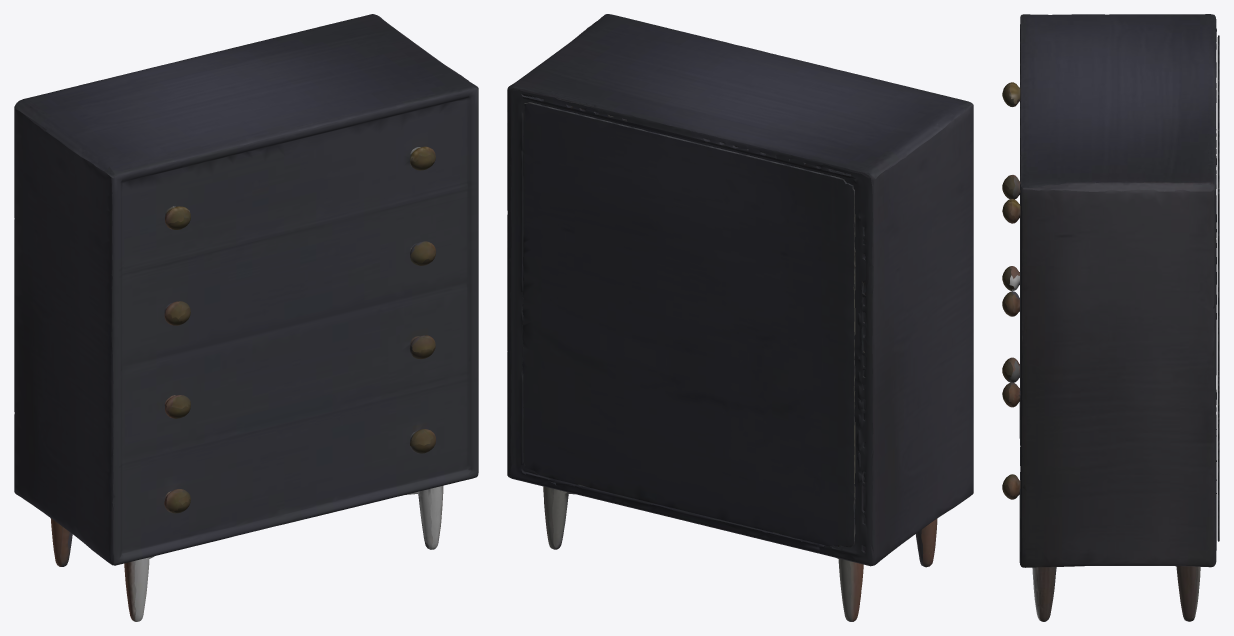
Rendered from L_DRAWERS.cyberpunk.glb.
The picture shows the model from 3 angles, left to right: view 1: azimuth 30°, elevation 25°; view 2: azimuth 150°, elevation 25°; view 3: azimuth 270°, elevation 25°; orthographic projection. The views are drawn at different scales.
Visible parts, largest first — view 1: geometry_0; view 2: geometry_0; view 3: geometry_0.
Boxes of the visible parts, x1,y1,x2,y2 form: geometry_0: (14, 14, 478, 621); geometry_0: (507, 14, 973, 621); geometry_0: (1002, 14, 1219, 621).
Size of the model in its own units: 0.8709 by 1.05 by 0.4574.
1 material, 1 textured.
